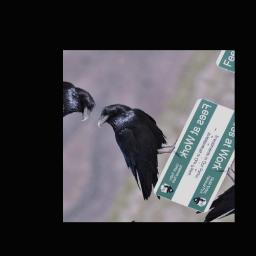Crow: (71, 97, 196, 206)
